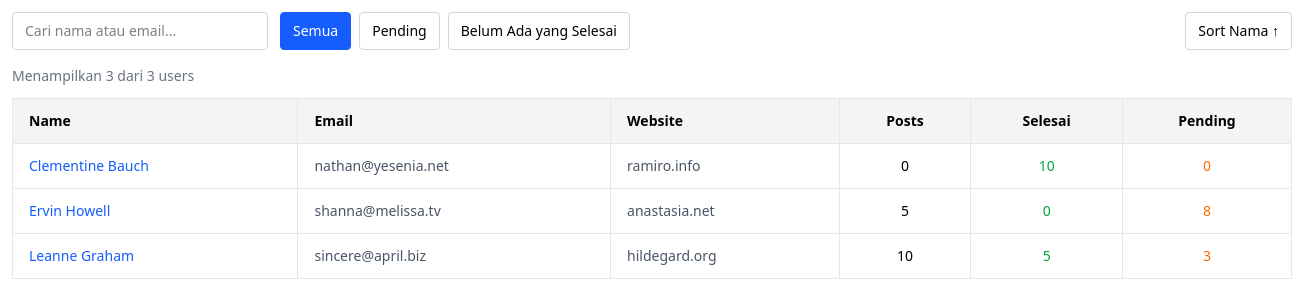
Test: UsersTable › filter users berdasarkan nama
Type "Leanne" into the search field with placeholder "Cari nama atau email...". click: {"x": 140, "y": 31}
box: [12,12,268,50]
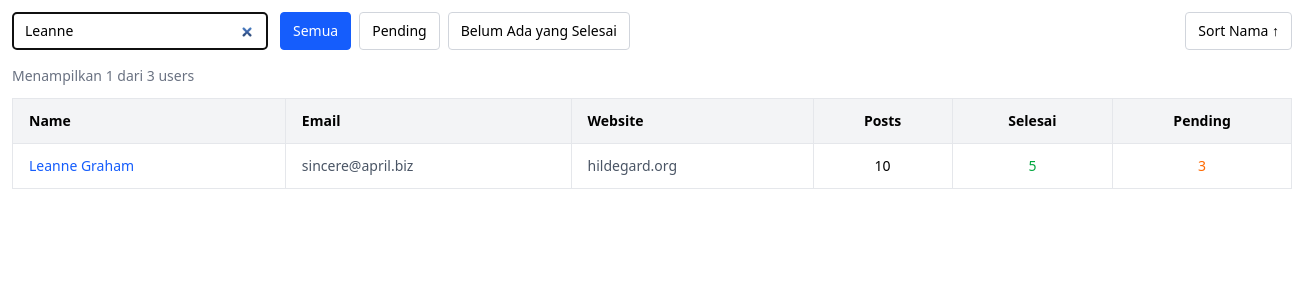
Expected: the link "Leanne Graham" is shown, [29,156,134,175]
Result: no links "Ervin Howell" are shown
Result: no links "Clementine Bauch" are shown
